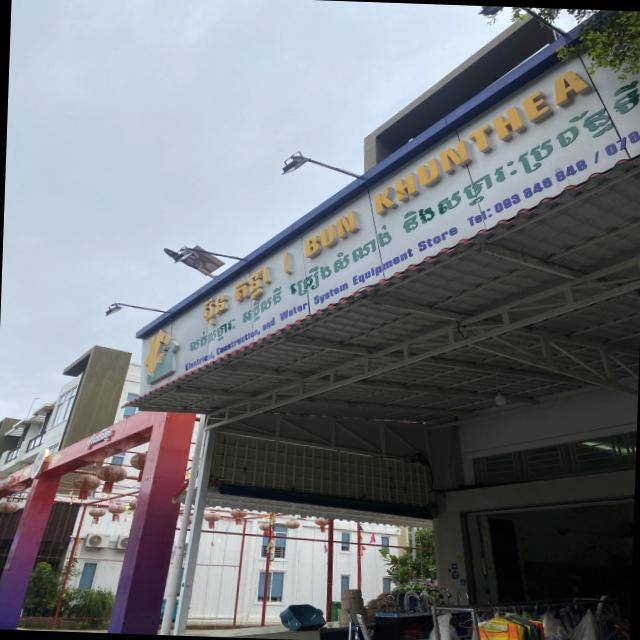1: (201, 260, 278, 332)
3: (184, 75, 640, 355)
453: (490, 127, 640, 217)
Yolov11_80vkh: (83, 424, 115, 451)
